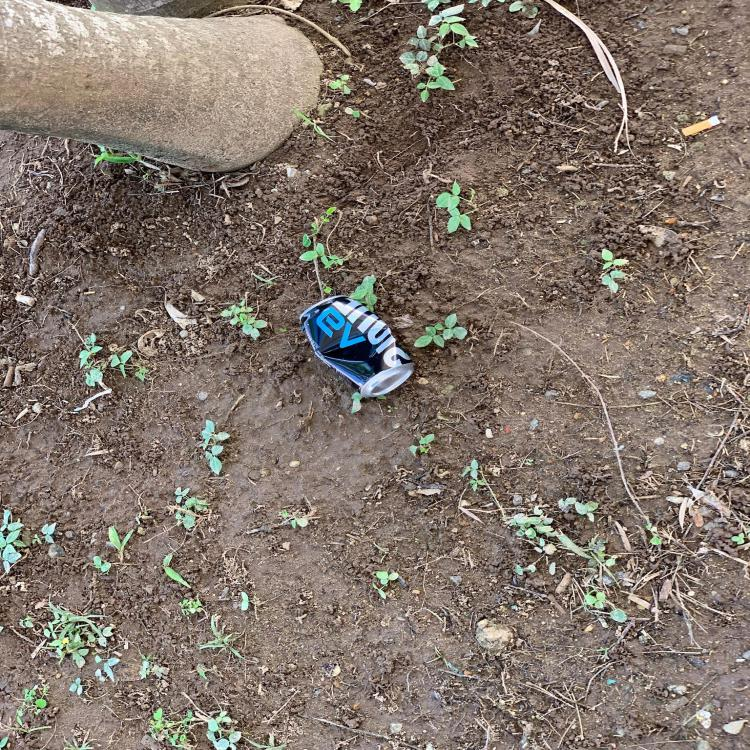Cigarette: (681, 115, 722, 136)
Drink can: (299, 296, 414, 397)
